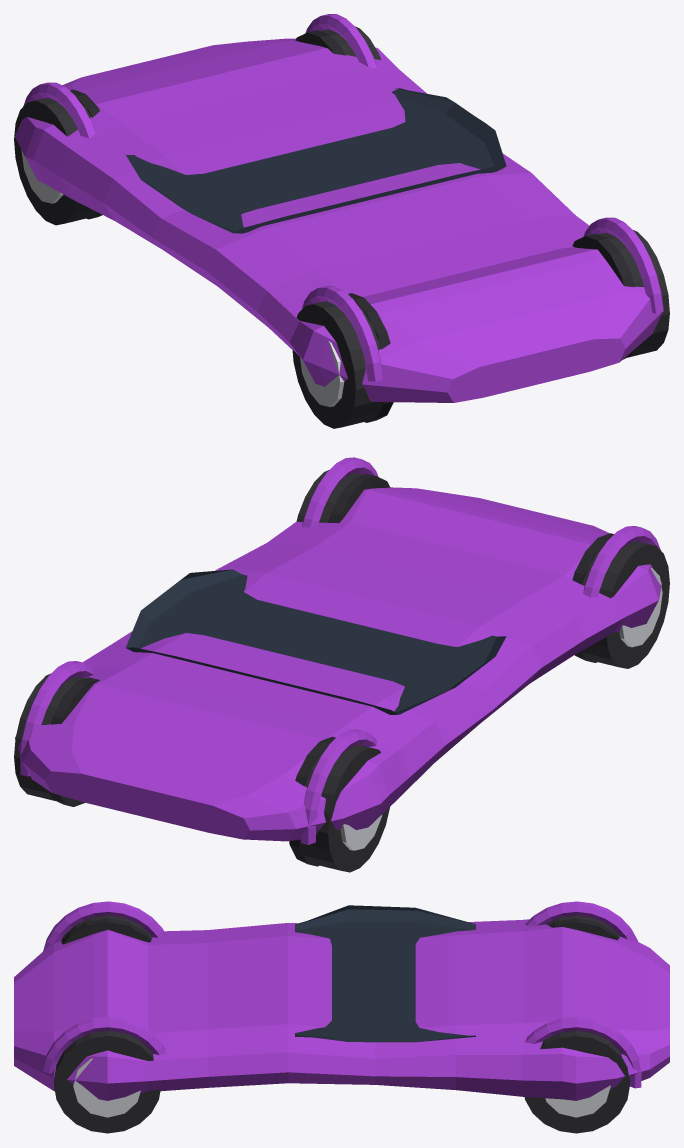
File: roadster.glb
3 views of the same model, one above another, from view 1: azimuth 30°, elevation 25°; view 2: azimuth 150°, elevation 25°; view 3: azimuth 270°, elevation 25° (orthographic). The views are drawn at different scales.
Visible parts, largest first — view 1: body, glass_canopy, wheel_front_tyre.001, wheel_rear_tyre.001, body_arch.001, body_arch, wheel_front_tyre, body_arch.003, body_arch.002, wheel_front_well, wheel_front_rim.001, wheel_front_well.001 (+2 smaller); view 2: body, glass_canopy, wheel_front_tyre.001, wheel_rear_tyre.001, body_arch.003, wheel_rear_tyre, body_arch.002, body_arch.001, body_arch, wheel_front_tyre, wheel_front_well, wheel_front_rim.001 (+4 smaller); view 3: body, glass_canopy, wheel_front_tyre, wheel_rear_tyre, body_arch, body_arch.002, body_arch.001, body_arch.003, wheel_front_rim, wheel_front_tyre.001, wheel_rear_rim, wheel_front_well.001 (+2 smaller).
Part boxes in pixels (<box>): body: <box>15,38,662,402</box>; glass_canopy: <box>126,87,506,233</box>; wheel_front_tyre.001: <box>292,301,383,428</box>; wheel_rear_tyre.001: <box>14,97,97,225</box>; body_arch.001: <box>302,286,382,381</box>; body_arch: <box>583,217,663,313</box>; wheel_front_tyre: <box>573,230,669,357</box>; body_arch.003: <box>23,82,95,138</box>; body_arch.002: <box>305,14,377,67</box>; wheel_front_well: <box>572,233,634,359</box>; wheel_front_rim.001: <box>300,341,344,406</box>; wheel_front_well.001: <box>348,293,393,422</box>; body: <box>15,487,662,841</box>; glass_canopy: <box>126,569,506,714</box>; wheel_front_tyre.001: <box>581,541,669,668</box>; wheel_rear_tyre.001: <box>299,745,389,872</box>; body_arch.003: <box>301,729,377,844</box>; wheel_rear_tyre: <box>14,673,97,805</box>; body_arch.002: <box>20,661,95,776</box>; body_arch.001: <box>583,526,660,597</box>; body_arch: <box>302,457,378,527</box>; wheel_front_tyre: <box>296,470,389,522</box>; wheel_front_well: <box>328,473,390,523</box>; wheel_front_rim.001: <box>619,568,662,647</box>; body: <box>14,919,669,1100</box>; glass_canopy: <box>295,905,475,1042</box>; wheel_front_tyre: <box>54,1031,160,1133</box>; wheel_rear_tyre: <box>524,1031,629,1133</box>; body_arch: <box>42,1017,165,1073</box>; body_arch.002: <box>525,1017,641,1088</box>; body_arch.001: <box>43,901,165,951</box>; body_arch.003: <box>525,901,638,941</box>; wheel_front_rim: <box>73,1058,140,1117</box>; wheel_front_tyre.001: <box>61,915,152,944</box>; wheel_rear_rim: <box>545,1085,610,1117</box>; wheel_front_well.001: <box>61,918,151,944</box>.
Bounding box in the file's own units: 2.12 × 0.7385 × 4.02.
